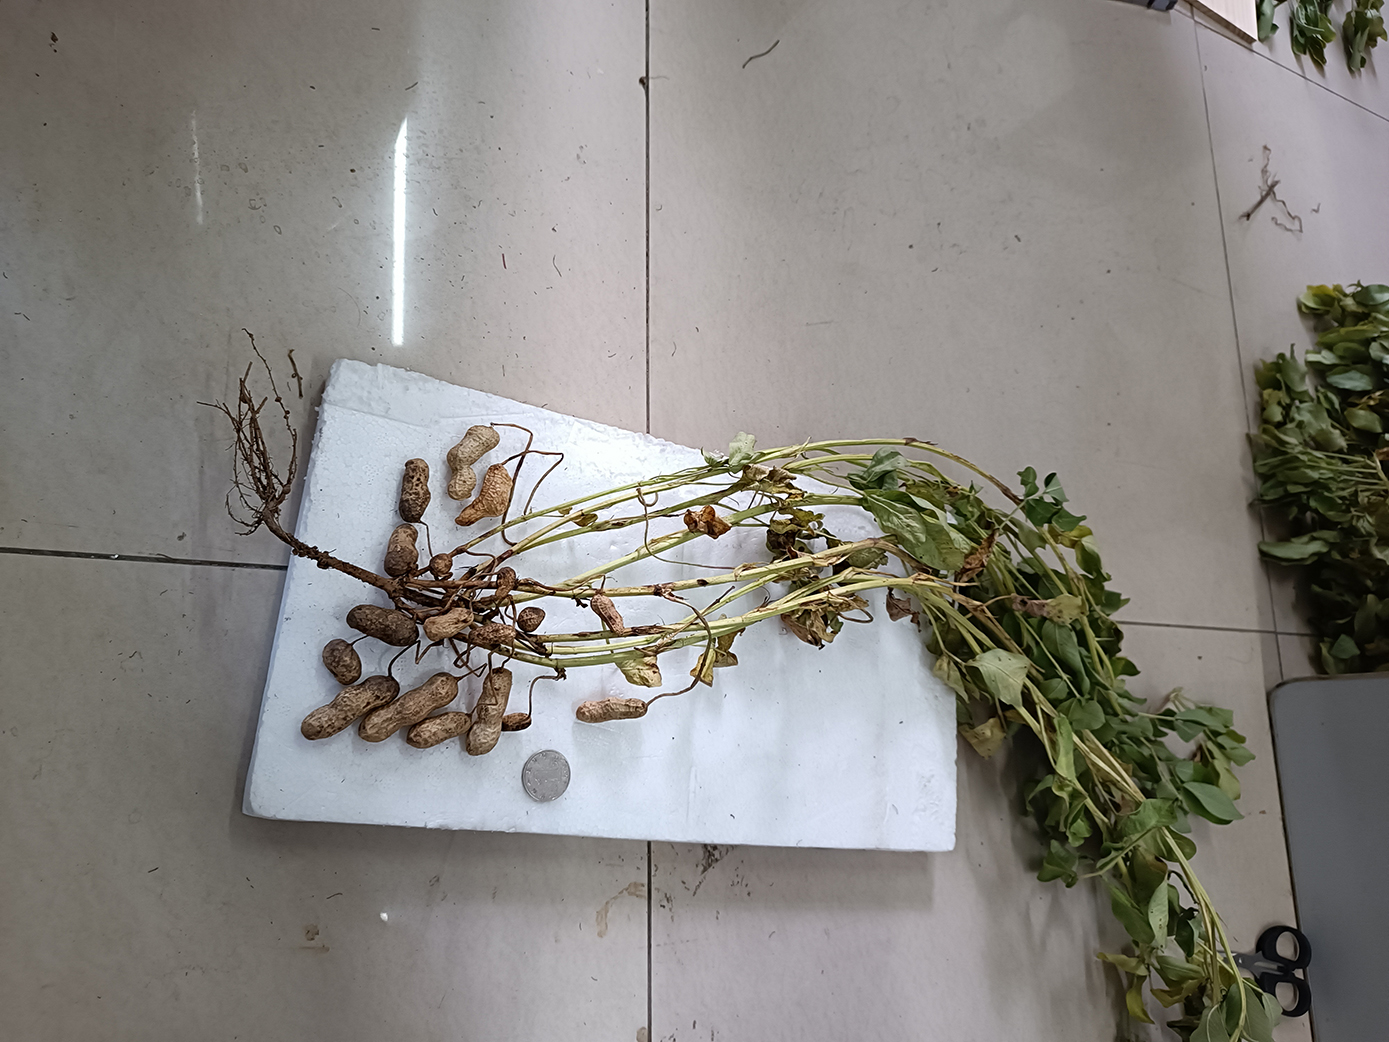h: (358, 670, 458, 741), (298, 675, 397, 743), (445, 424, 500, 501), (468, 669, 514, 756), (454, 465, 513, 526), (406, 713, 472, 749), (400, 458, 431, 520), (384, 524, 418, 581), (575, 697, 644, 725), (589, 591, 629, 637), (424, 607, 474, 641), (468, 624, 517, 647), (494, 565, 516, 603), (430, 552, 454, 581), (500, 713, 533, 731), (519, 607, 544, 630)
l: (345, 604, 420, 648), (323, 639, 361, 685)
